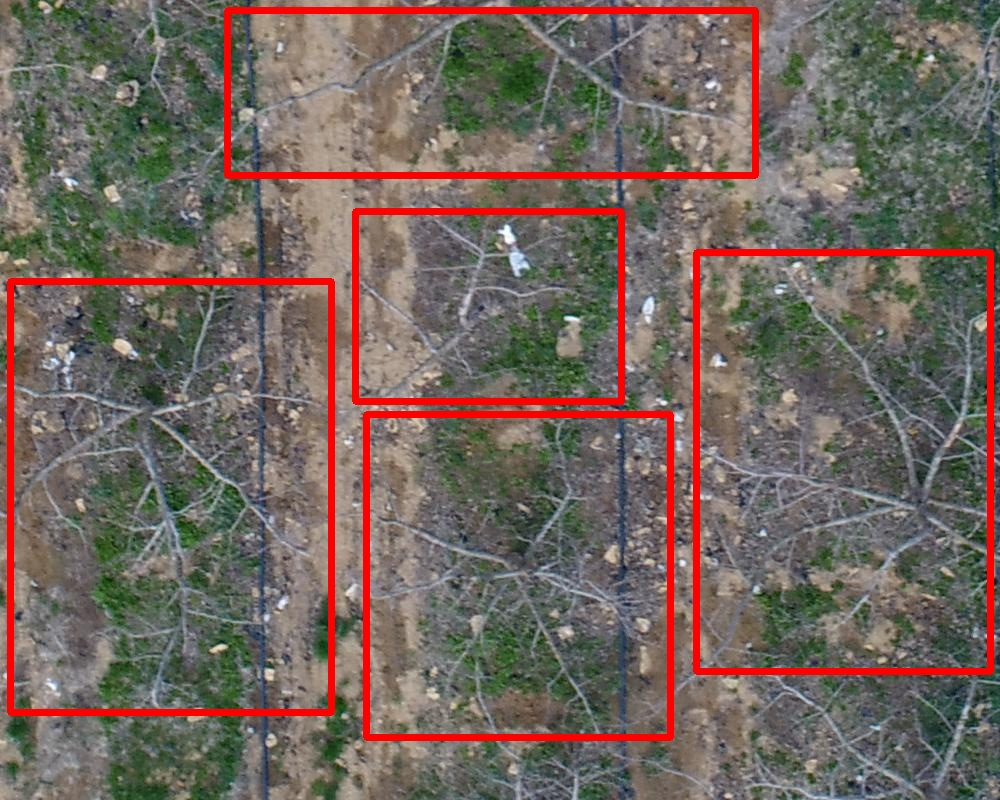apple: (10, 281, 331, 712), (696, 252, 990, 671), (366, 414, 670, 737), (227, 10, 755, 175), (355, 211, 621, 401)
